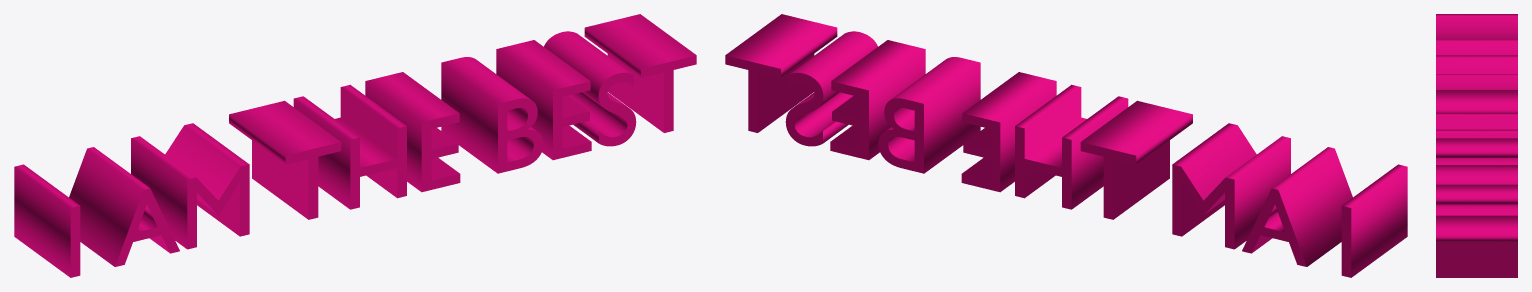
The model's file is Pride1.fbx.
3 views of the same model, side by side, from view 1: azimuth 30°, elevation 25°; view 2: azimuth 150°, elevation 25°; view 3: azimuth 270°, elevation 25° (orthographic). The views are drawn at different scales.
Visible parts, largest first — view 1: Text; view 2: Text; view 3: Text.
Boxes of the visible parts, left/top/right/bottom form: Text: left=14, top=14, right=696, bottom=277; Text: left=725, top=14, right=1407, bottom=277; Text: left=1436, top=14, right=1517, bottom=277.
Bounding box in the file's own units: 640 × 70 × 100.
